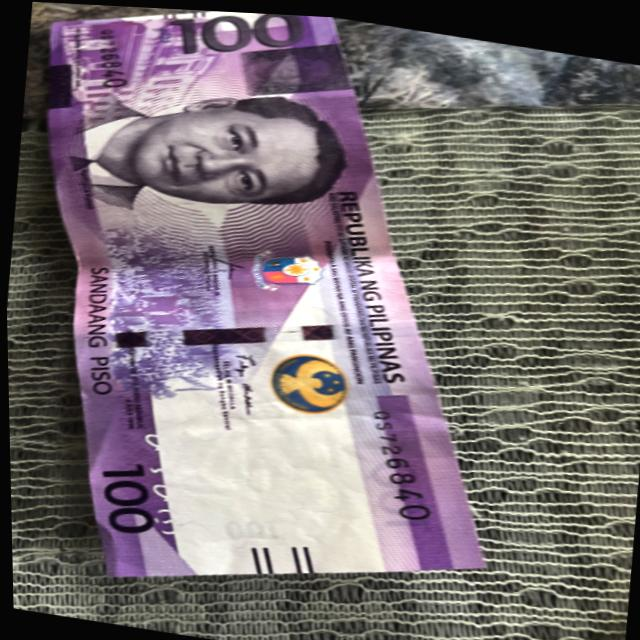concealed_value: (239, 39, 352, 92)
security_thread: (72, 315, 417, 349)
see_through_mark: (139, 428, 197, 541)
serial_number: (353, 396, 446, 531), (91, 21, 134, 89)
value: (166, 10, 316, 55)
